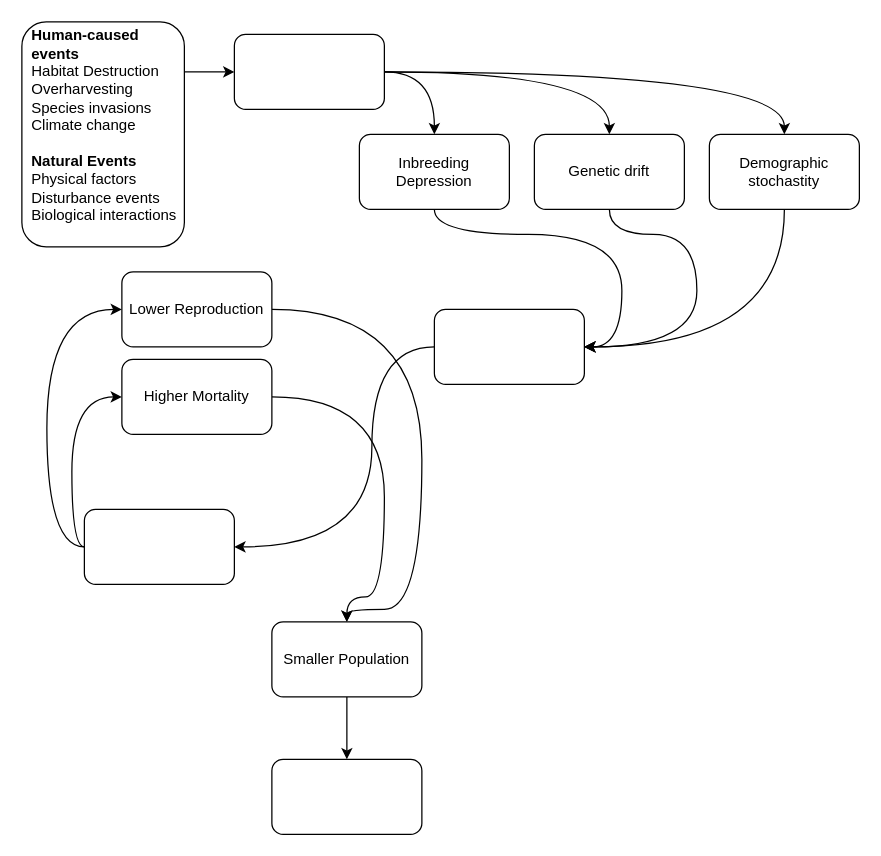
Some shapes in this 881 by 856 pixel diagram are drawn without their labels. The shapes that lost their labels are listed below. From the top down, each one's box as (x1, y1, x2, y2) in pixels, then its label:
(233, 33, 384, 109): Small Population
(433, 308, 584, 384): Loss of genetic variability
(83, 508, 234, 584): Reproduction in individual fitness and population adaptability
(271, 758, 422, 834): Extinction
